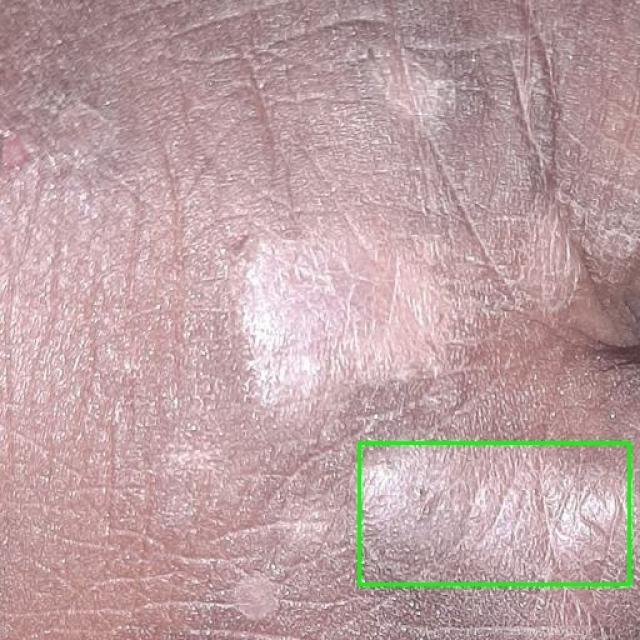Eczema: (359, 442, 629, 584)
